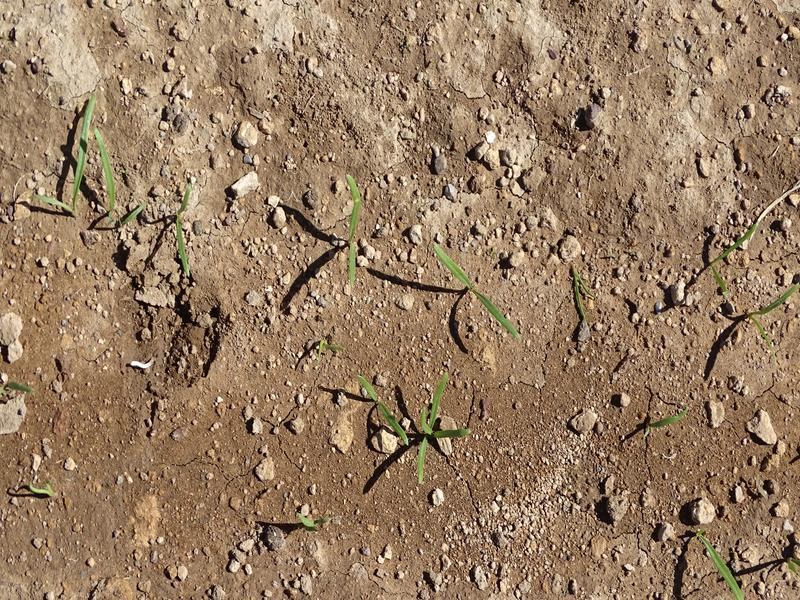Espinaca: (431, 240, 526, 344), (38, 90, 92, 213), (709, 260, 797, 334), (407, 380, 471, 480), (92, 130, 138, 227), (355, 373, 407, 447), (340, 175, 369, 289), (166, 189, 206, 269)
